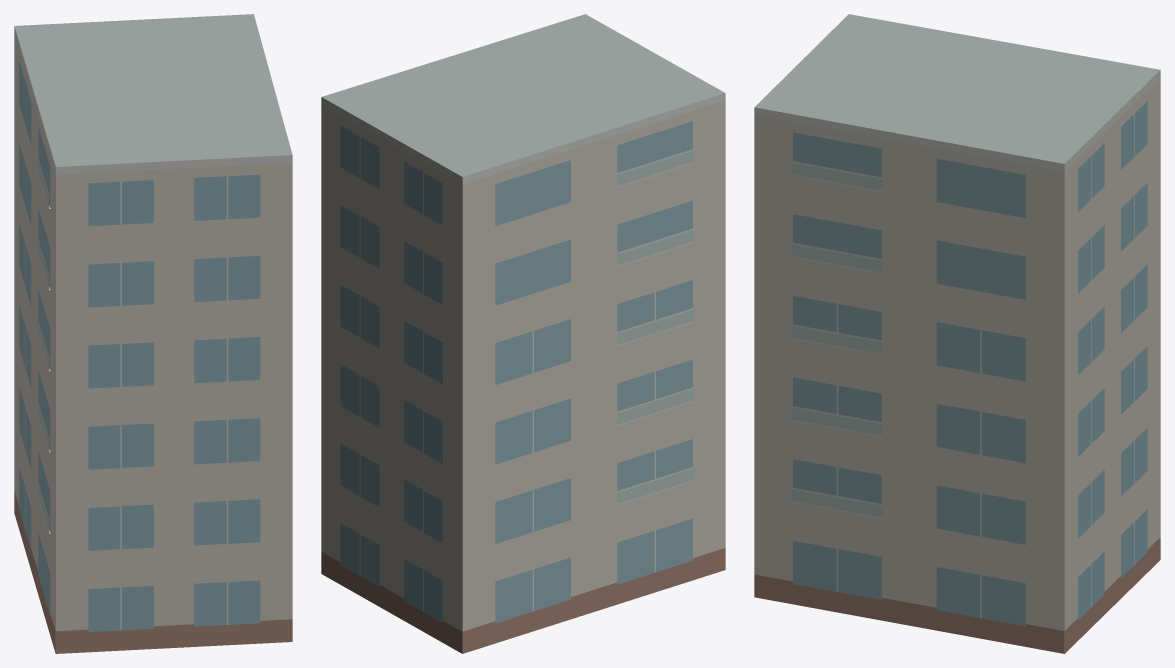
Rendered from survey-upis-32535364.glb.
3 renders of one model, left to right at view 1: azimuth 30°, elevation 25°; view 2: azimuth 150°, elevation 25°; view 3: azimuth 270°, elevation 25°, orthographic. The views are drawn at different scales.
Parts seen in each view (by area): view 1: survey-upis-32535364.tmp; view 2: survey-upis-32535364.tmp; view 3: survey-upis-32535364.tmp.
Boxes of the visible parts, x1,y1,x2,y2 form: survey-upis-32535364.tmp: (14,14,292,653); survey-upis-32535364.tmp: (321,14,725,653); survey-upis-32535364.tmp: (754,14,1160,653).
Size of the model in its own units: 10.12 by 15.4 by 11.58.
